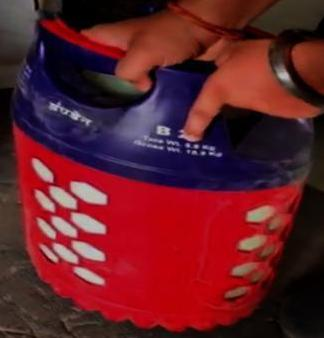cylinder: (1, 1, 324, 338)
